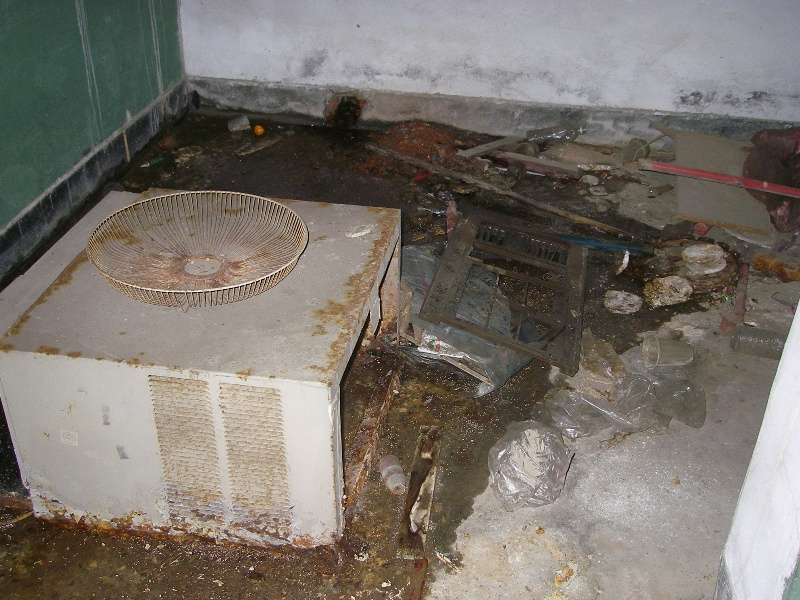bottle: (637, 331, 696, 369), (728, 325, 786, 361), (376, 453, 407, 498)
